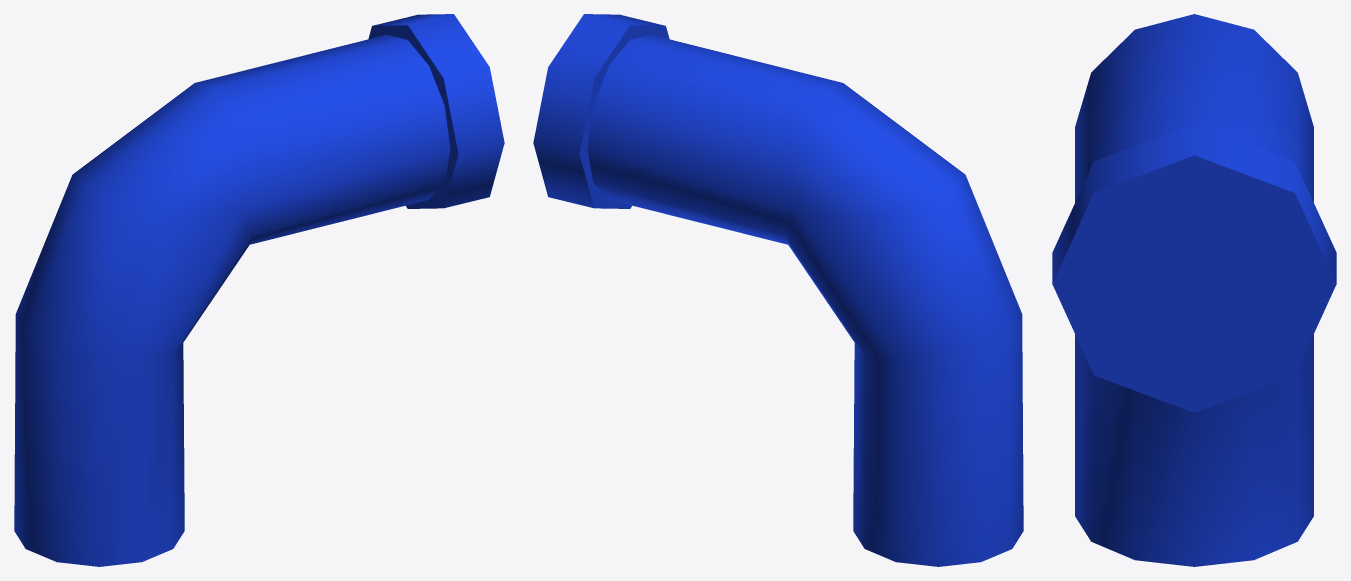
The model's file is pipe3.fbx.
3 views of the same model, side by side, from view 1: azimuth 30°, elevation 25°; view 2: azimuth 150°, elevation 25°; view 3: azimuth 270°, elevation 25° (orthographic). The views are drawn at different scales.
Visible parts, largest first — view 1: 1.001; view 2: 1.001; view 3: 1.001.
Part boxes in pixels (x1,y1,x2,y2): 1.001: [14, 14, 504, 566]; 1.001: [533, 14, 1023, 566]; 1.001: [1052, 14, 1336, 566].
Bounding box in the file's own units: 1590 × 1528 × 652.
